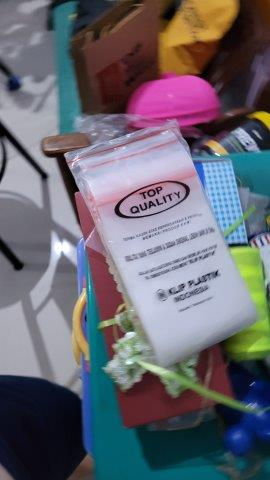plastik: (64, 117, 258, 364)
